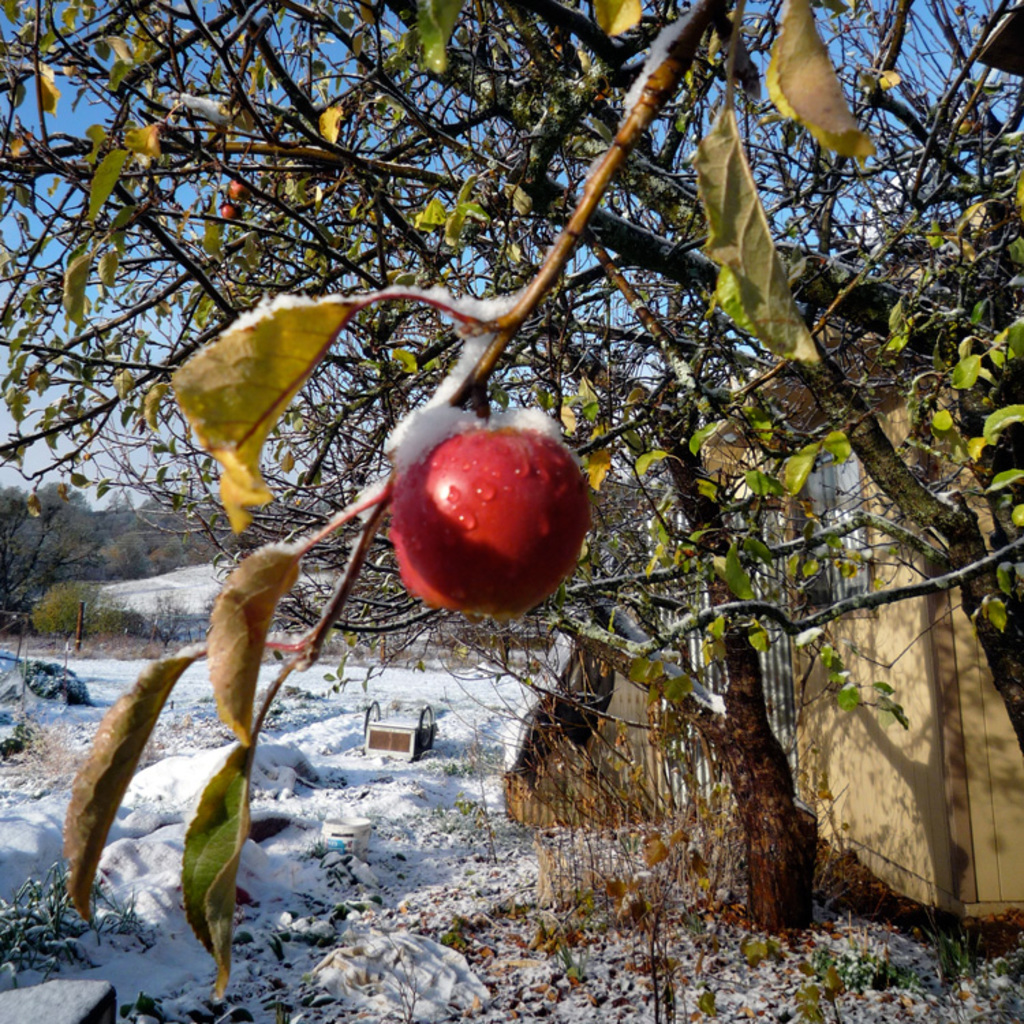Apple: (389, 421, 588, 617)
